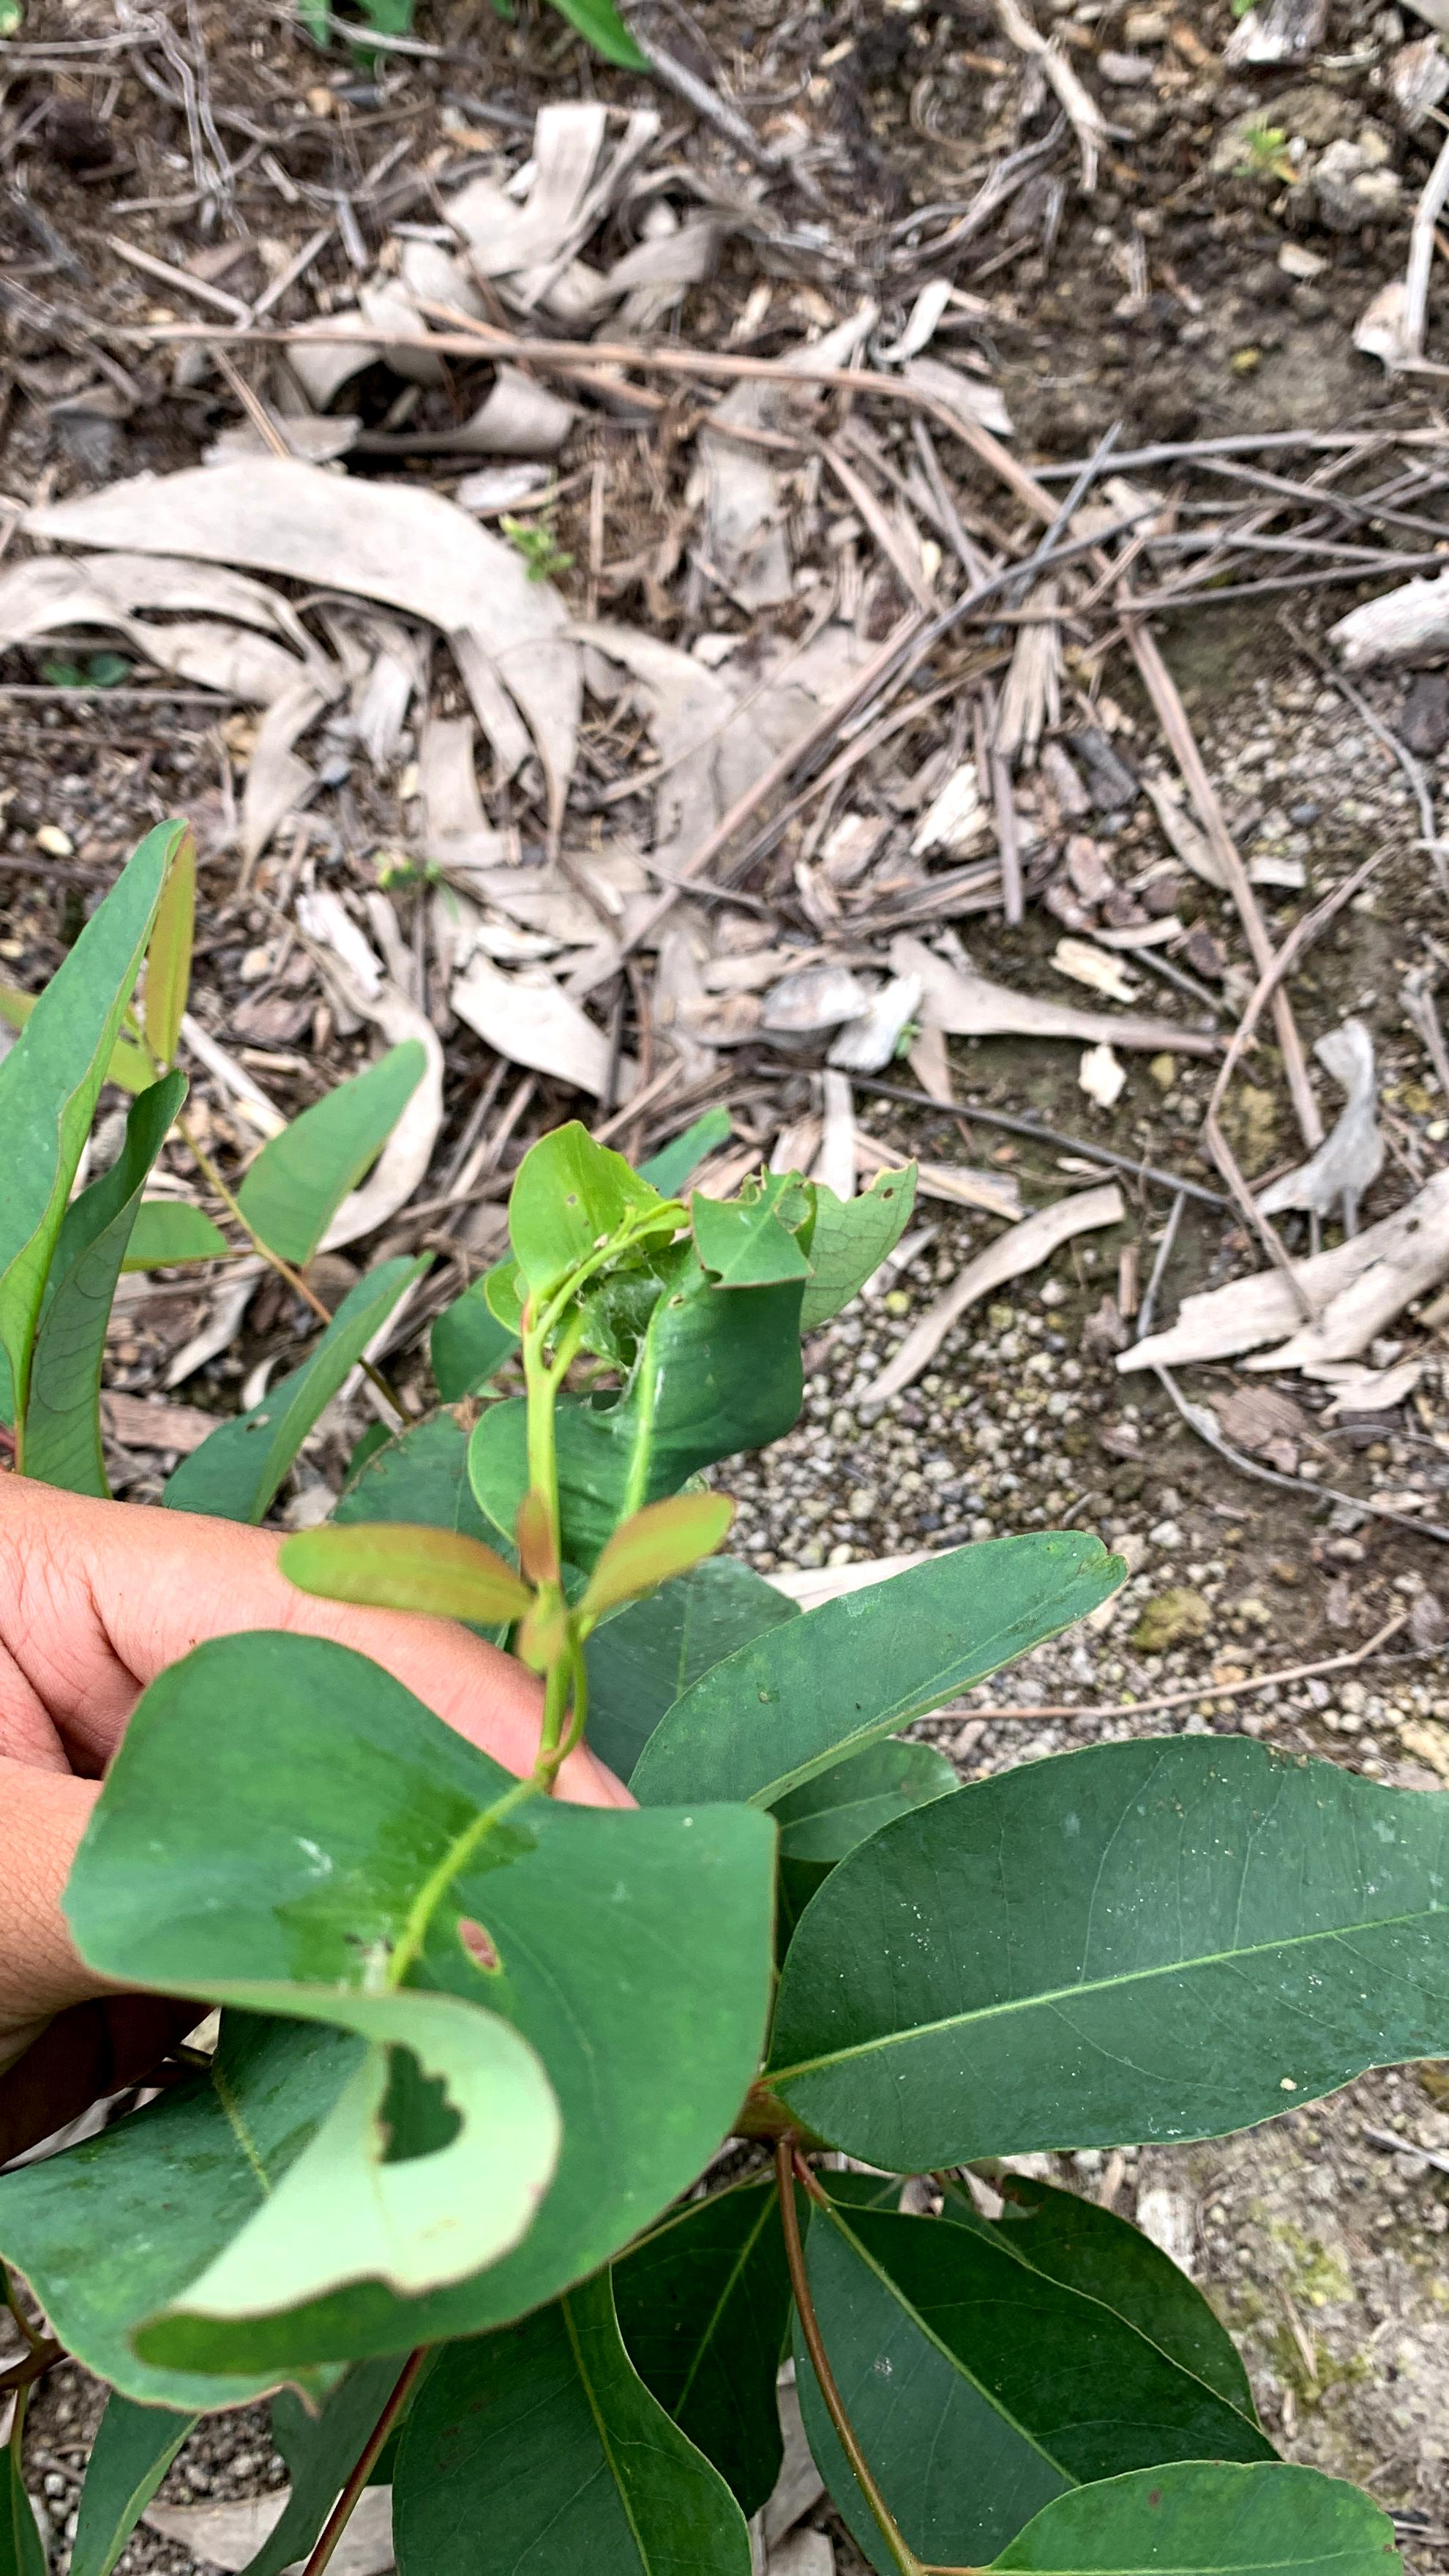Leaf Roller - Leaf: (42, 1851, 555, 2372), (440, 1129, 940, 1454)
